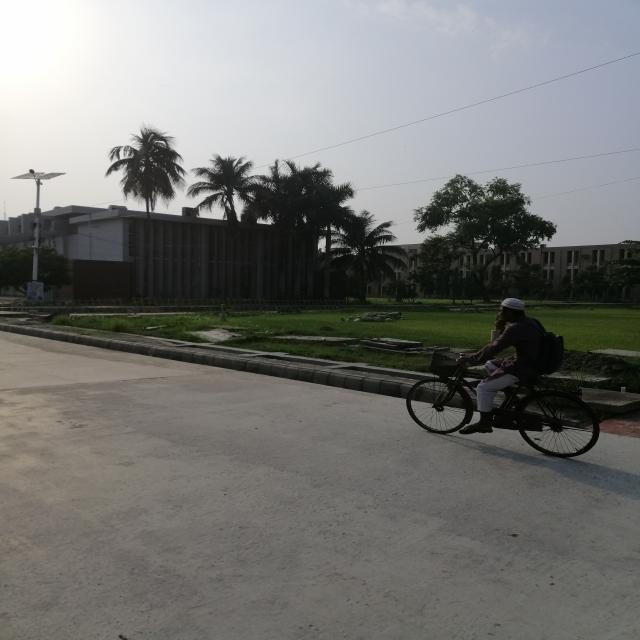Bicycle: (393, 347, 620, 462)
